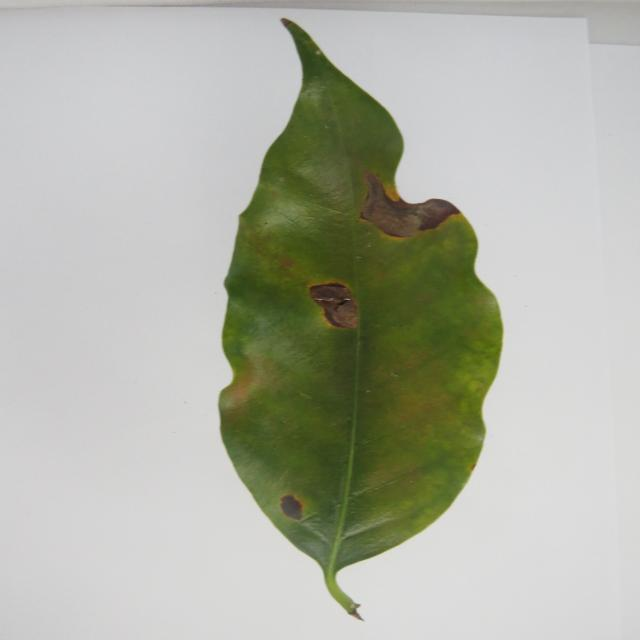DeficienciaNutricional-Potasio: (220, 19, 502, 618)
